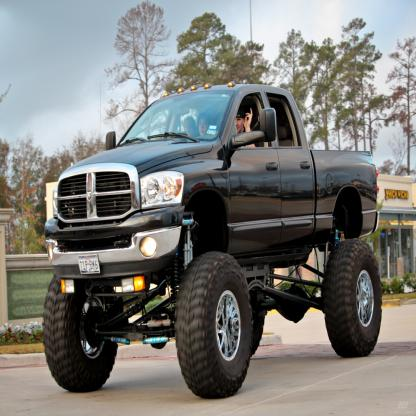Truck: (41, 81, 382, 399)
